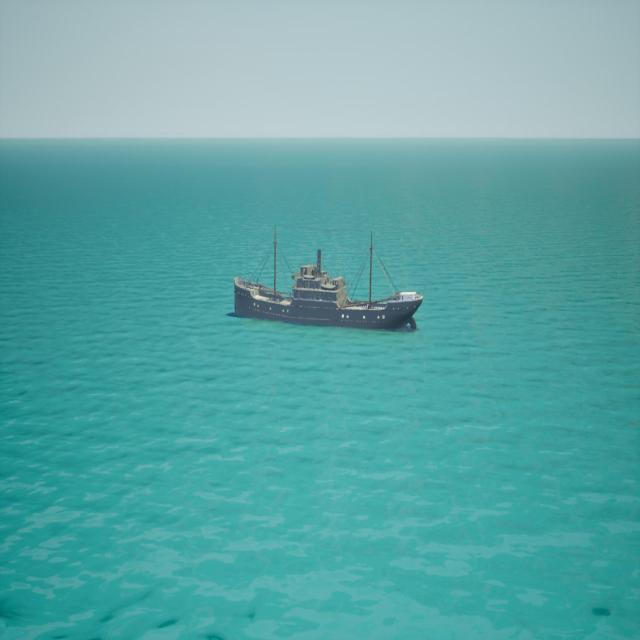fishing ship: (233, 230, 423, 332)
